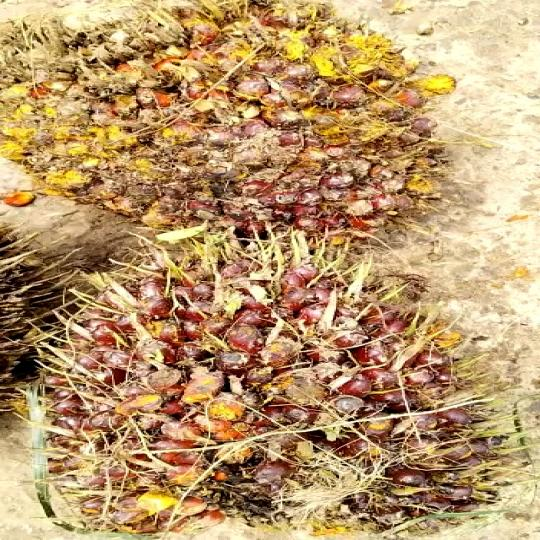masak: (33, 239, 521, 540), (0, 0, 462, 250)
